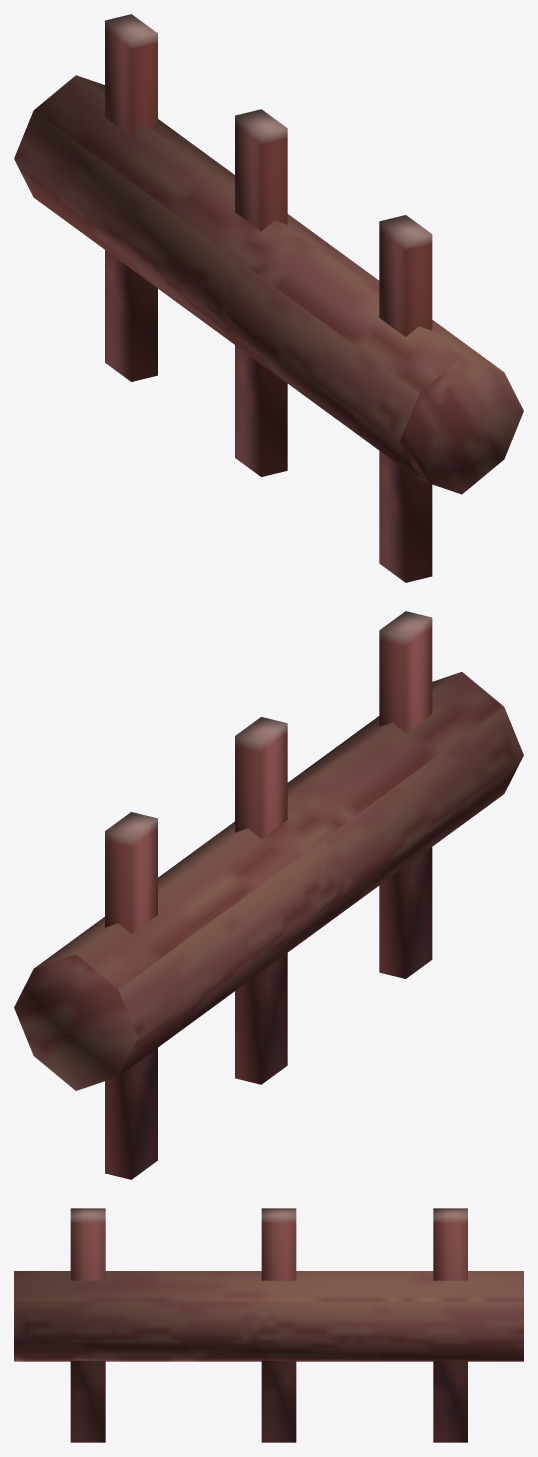
Rendered from Cerca2.fbx.
3 views of the same model, one above another, from view 1: azimuth 30°, elevation 25°; view 2: azimuth 150°, elevation 25°; view 3: azimuth 270°, elevation 25° (orthographic). The views are drawn at different scales.
Visible parts, largest first — view 1: Cerca2; view 2: Cerca2; view 3: Cerca2.
Part boxes in pixels (<box>): Cerca2: <box>14,14,523,582</box>; Cerca2: <box>14,611,523,1179</box>; Cerca2: <box>14,1208,523,1442</box>.
Size of the model in its own units: 67.63 by 178 by 365.
